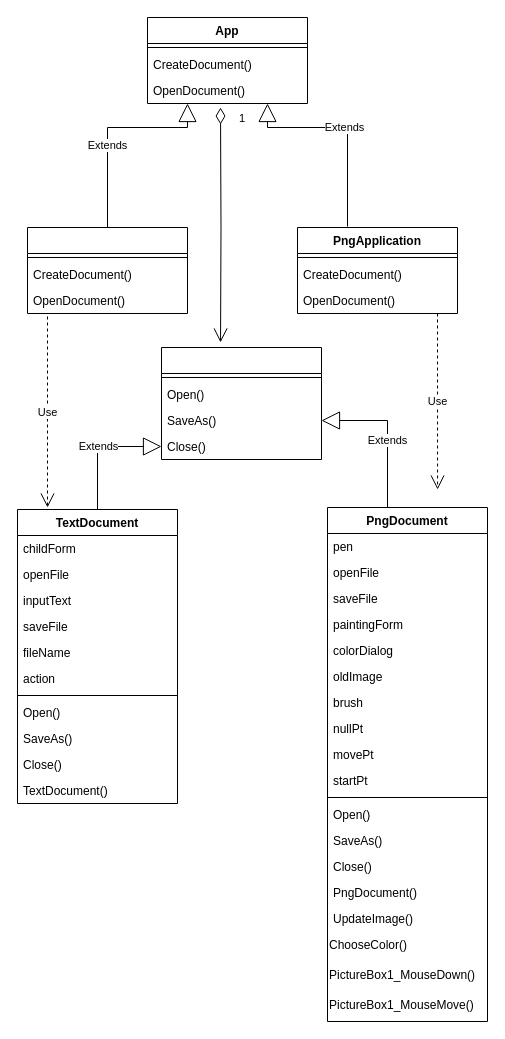
The diagram is 505 pixels wide and 1039 high, and some of its shapes have lost their labels. The shapes that lost their labels are listed below. From the top down, each one's box as (x1, y1, x2, y2) in pixels, then its label:
(26, 226, 188, 314): TextApplication
(160, 346, 322, 460): Document
